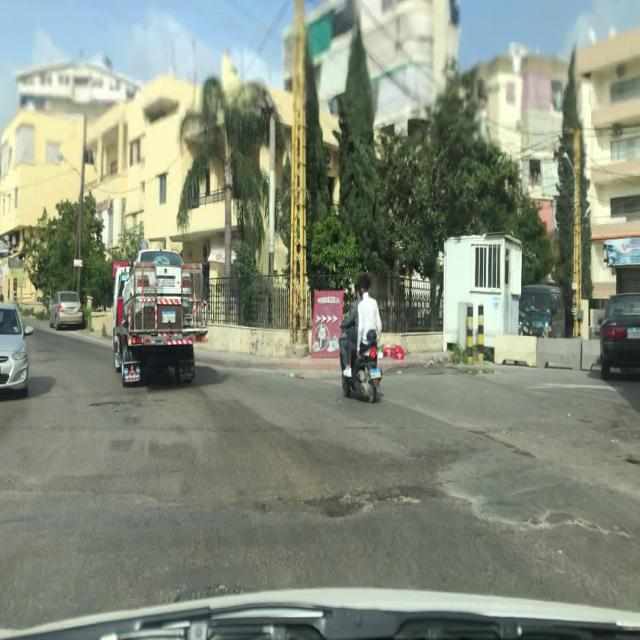Pothole: (297, 486, 423, 522), (87, 399, 147, 408)
